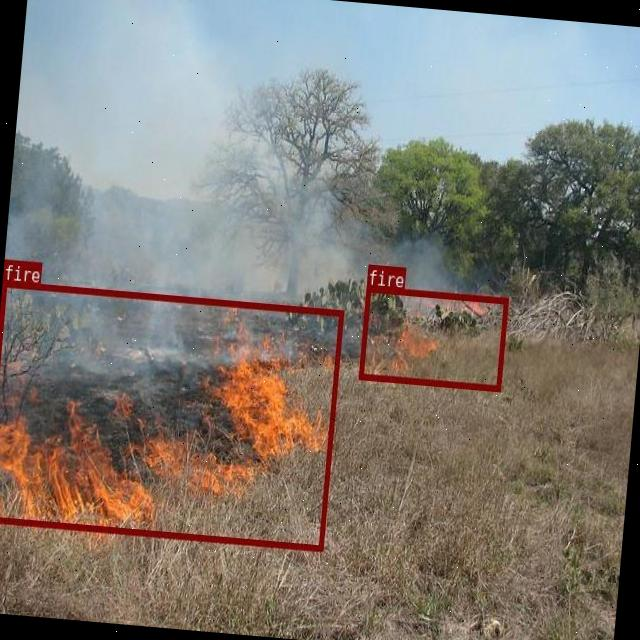fire: (0, 279, 343, 550), (357, 285, 507, 390)
